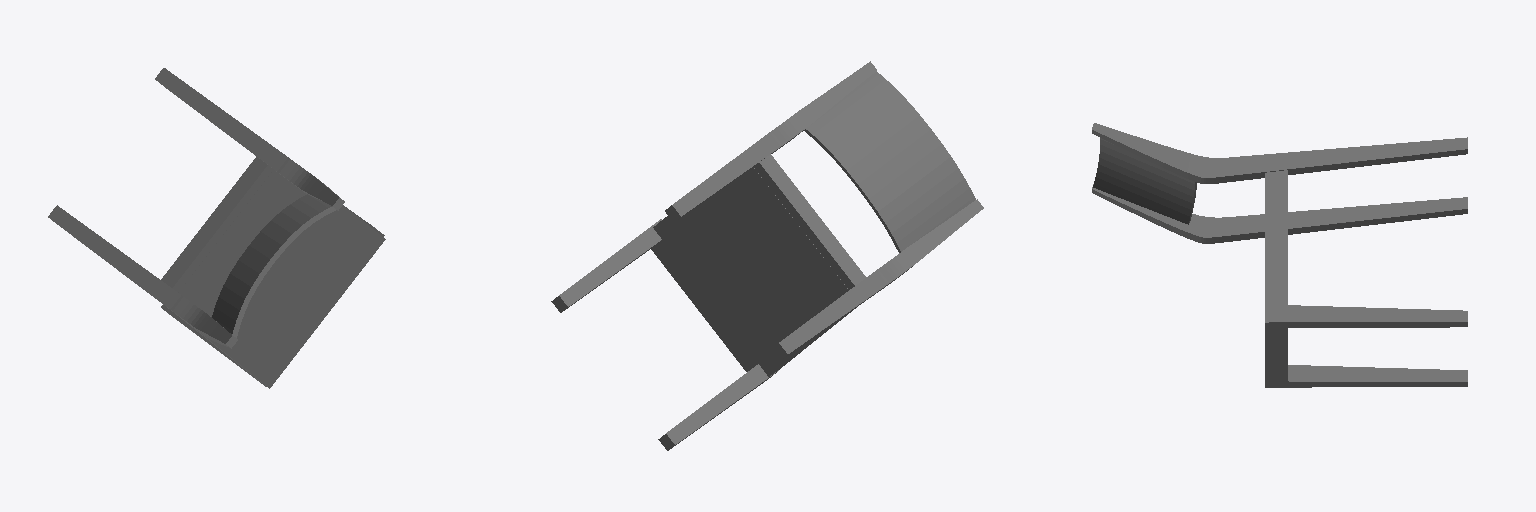
Rendered from chair2.obj.
The picture shows the model from 3 angles: view 1: azimuth 30°, elevation 25°; view 2: azimuth 150°, elevation 25°; view 3: azimuth 270°, elevation 25°; orthographic projection.
Visible parts, largest first — view 1: Box21_Box3; view 2: Box21_Box3; view 3: Box21_Box3.
Boxes of the visible parts, box(x1,y1,x2,y2) form: Box21_Box3: box(48, 68, 385, 388); Box21_Box3: box(551, 61, 983, 450); Box21_Box3: box(1092, 123, 1467, 387).
Bounding box in the file's own units: 162 × 162 × 214.